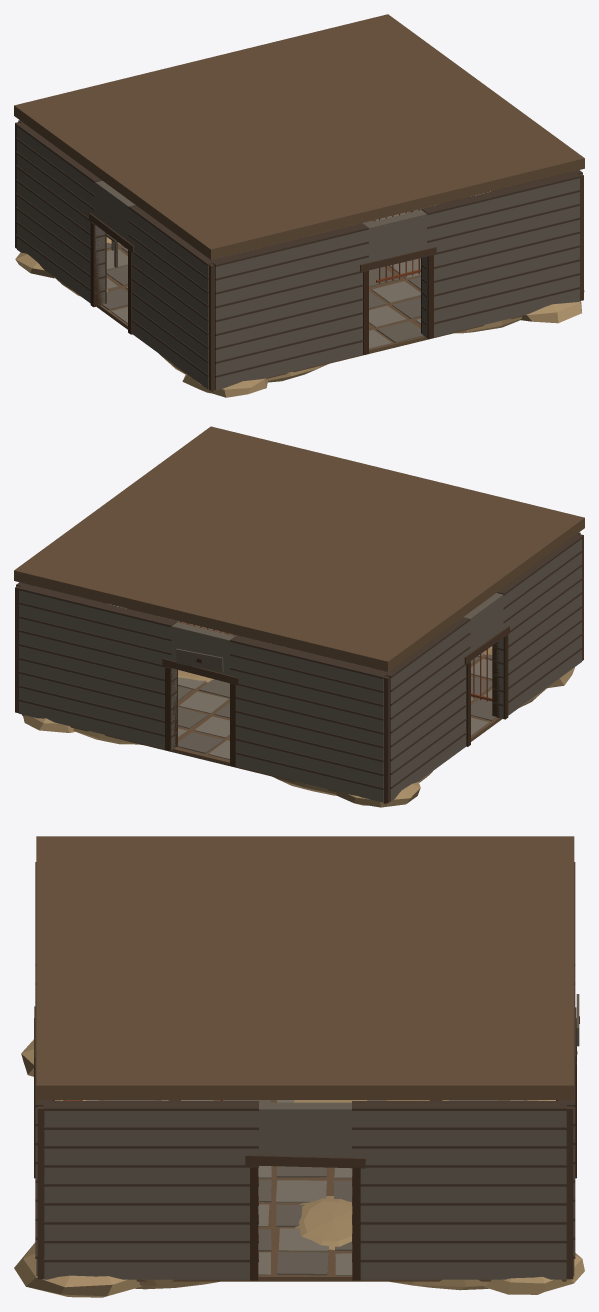
File: TownBldg_jail.glb
3 views of the same model, one above another, from view 1: azimuth 30°, elevation 25°; view 2: azimuth 150°, elevation 25°; view 3: azimuth 270°, elevation 25° (orthographic). The views are drawn at different scales.
Visible parts, largest first — view 1: TownBldg_jail.001; view 2: TownBldg_jail.001; view 3: TownBldg_jail.001.
Boxes of the visible parts, bbox=[...] form: TownBldg_jail.001: bbox=[14, 14, 584, 397]; TownBldg_jail.001: bbox=[14, 426, 584, 807]; TownBldg_jail.001: bbox=[14, 836, 584, 1297].
Bounding box in the file's own units: 11.93 × 4.6 × 10.93.
